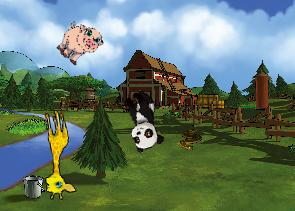giraffe: (33, 108, 77, 201)
panda: (118, 87, 166, 153)
pig: (51, 15, 107, 71)
